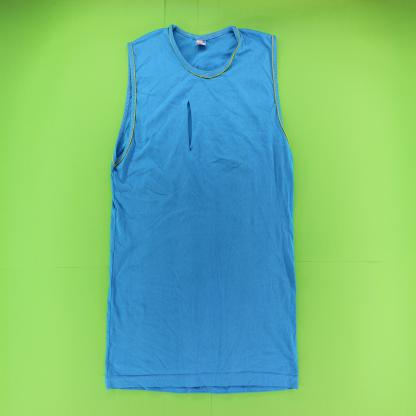hole: (187, 99, 192, 152)
